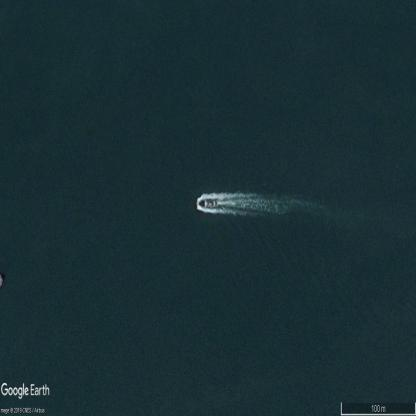ship: (199, 197, 216, 212)
